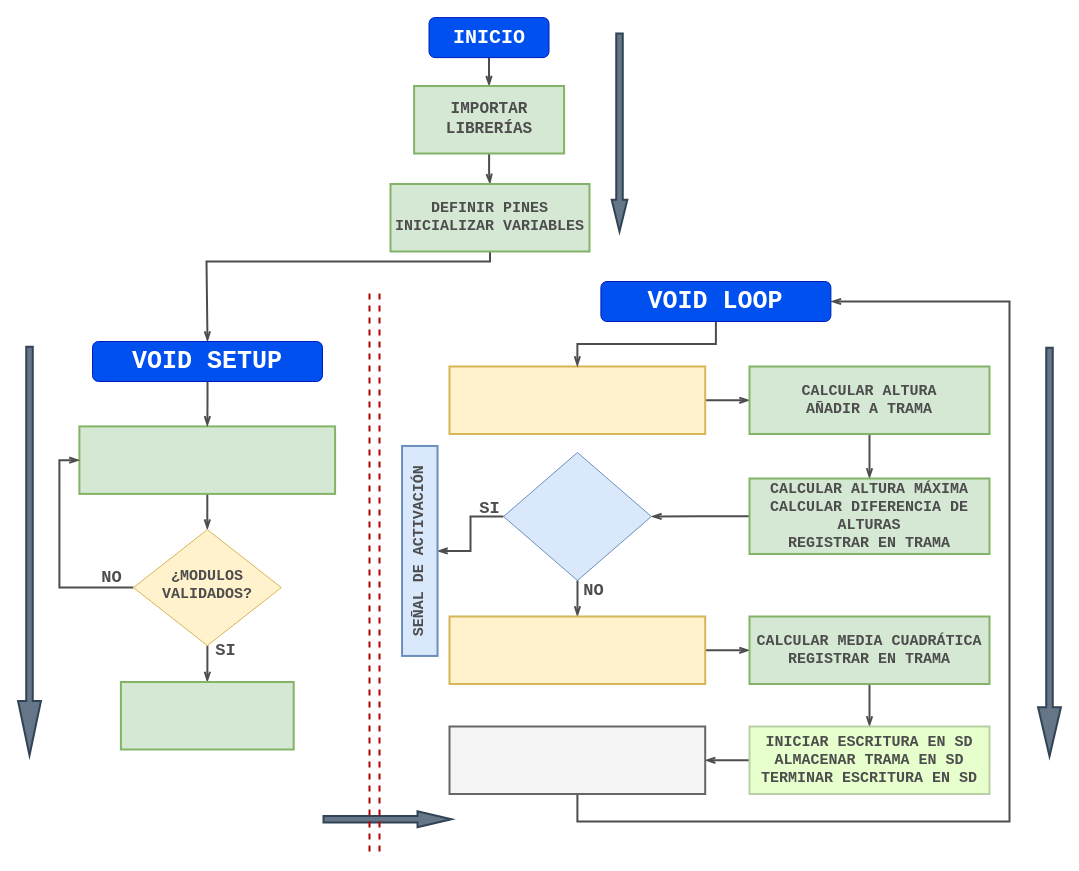
Image size: 1079x871. Some labels were removed from this diagram. The shapes that lost their labels are listed below. From the top down, each one's box as (x1, y1, x2, y2) in pixels, then its label:
(448, 365, 706, 434): MS5611 LEER PRESIÓN Y TEMPERATURA
(78, 425, 336, 494): INICIAR COMUNICACIÓN SERIAL ASIGNAR MODO DE PINES INICIAR MÓDULOS
(502, 452, 651, 580): ¿ALTURA == APOGEO?
(448, 615, 706, 684): REGISTRAR EN TRAMA LECTURA UNIDADES INERCIALES IMU - BNO055
(119, 680, 294, 750): CALCULAR PRESIÓN REFERENCIA 500 MUESTRAS
(448, 725, 706, 794): ENVIAR TRAMA DE DATOS LoRa - Ra-02
